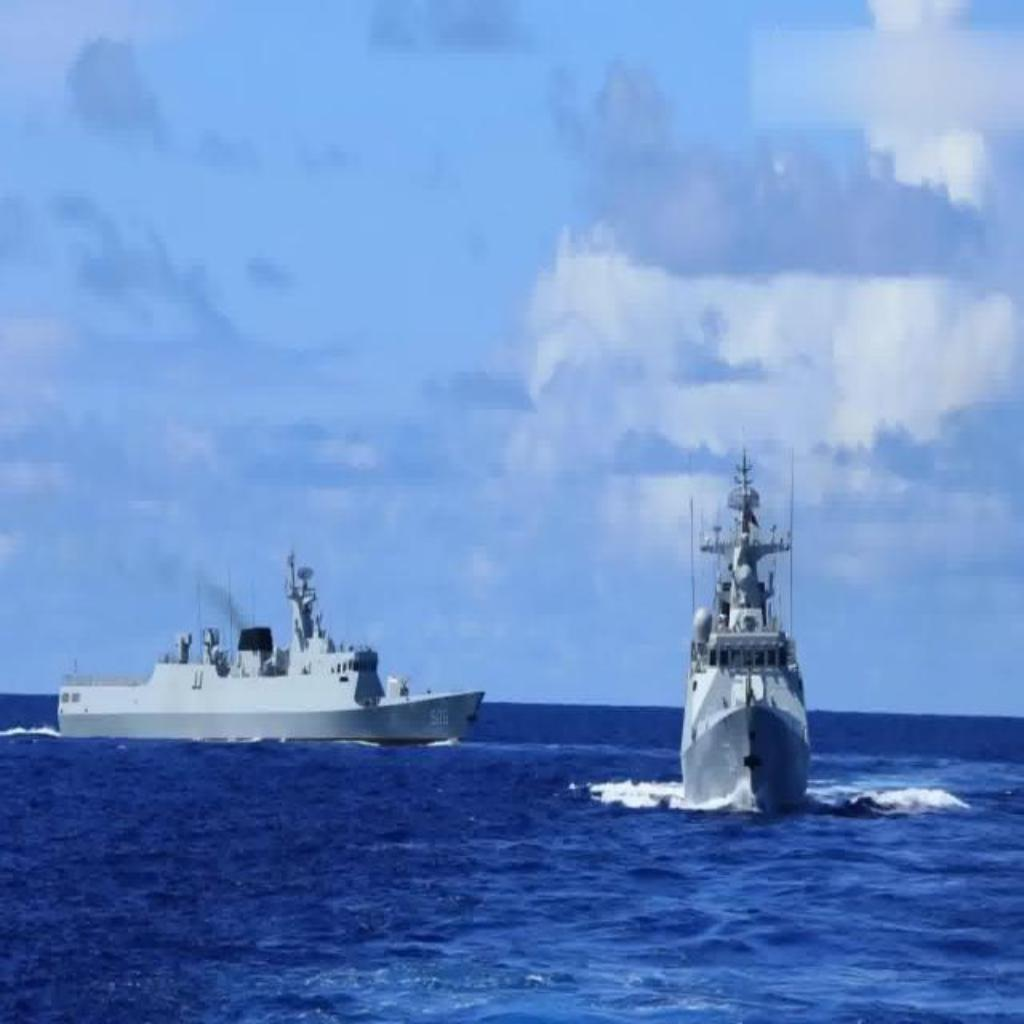Warship: (52, 538, 492, 748), (676, 416, 822, 812)
